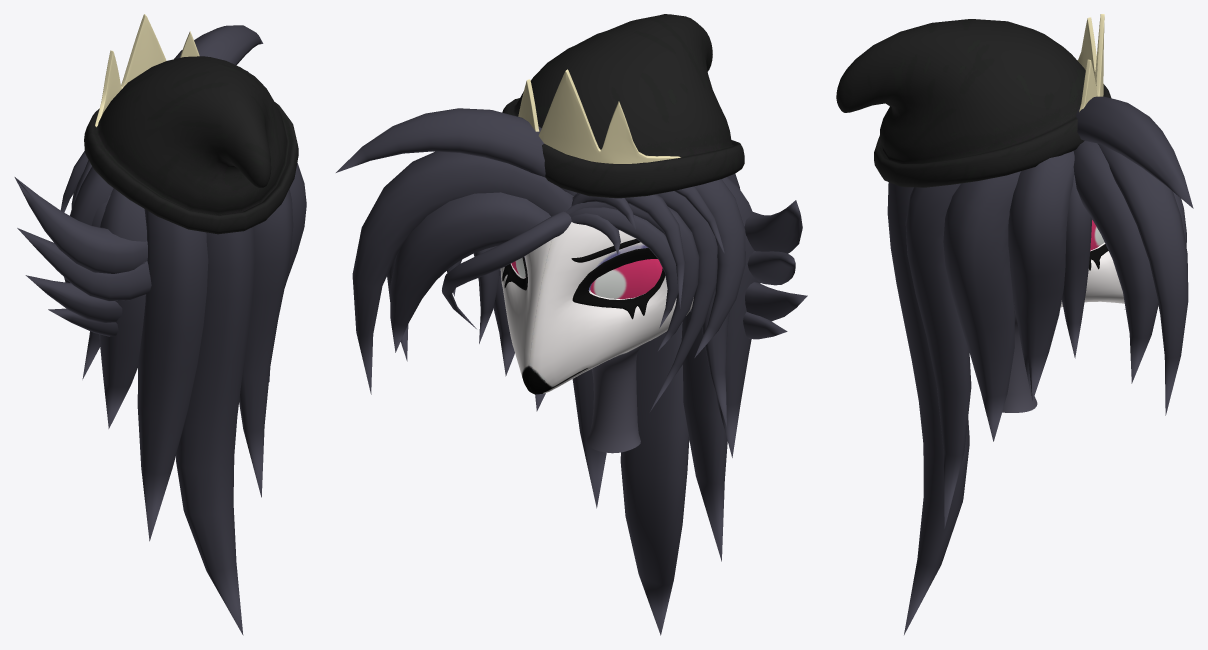
File: octavia.glb
3 renders of one model, left to right at view 1: azimuth 30°, elevation 25°; view 2: azimuth 150°, elevation 25°; view 3: azimuth 270°, elevation 25°, orthographic. The views are drawn at different scales.
Parts seen in each view (by area): view 1: Topi_Crown; view 2: Topi_Crown; view 3: Topi_Crown.
Boxes of the visible parts, x1,y1,x2,y2 form: Topi_Crown: [14, 14, 306, 635]; Topi_Crown: [336, 14, 807, 635]; Topi_Crown: [836, 14, 1193, 634].
Bounding box in the file's own units: 1.76 × 2.9 × 1.52.
8 materials, 8 textured.
